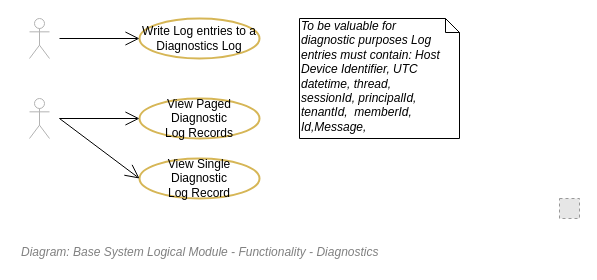
Image size: 597x280. Some labels were removed from this diagram. Grey dashed boxes stand in for pictures. The shapes that lost their labels are listed below. From the top down, each one's box as (x1, y1, x2, y2) in pixels, then its label:
(28, 18, 50, 58): Daemon
(28, 98, 50, 138): Actor
